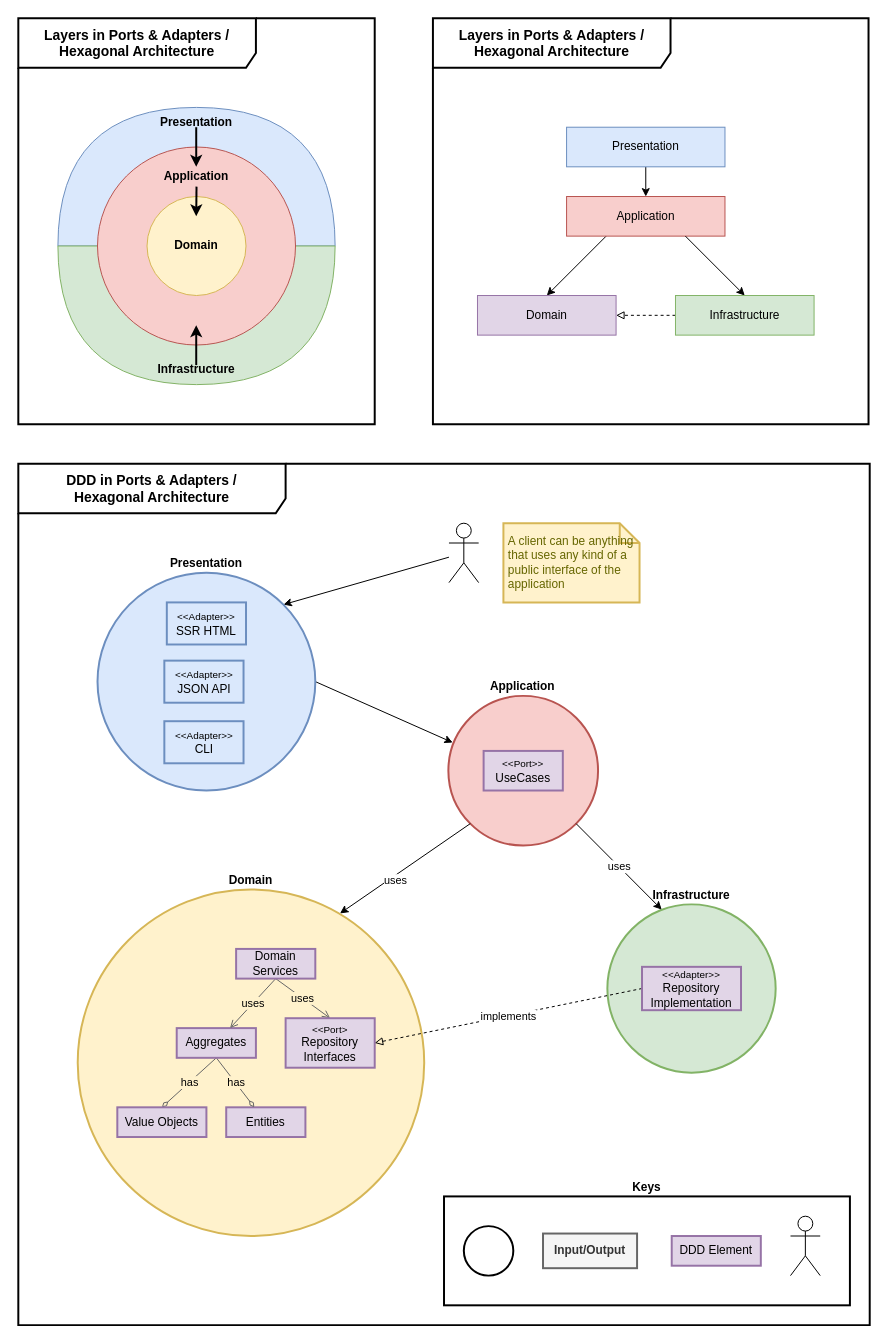
Image size: 887x1342. Some labels were removed from this diagram. The shapes that lost their labels are listed below. From the top down, each one's box as (x1, y1, x2, y2) in pixels, then its label:
(448, 522, 479, 583): Client
(462, 1225, 514, 1276): Layer
(790, 1215, 820, 1276): Actor
